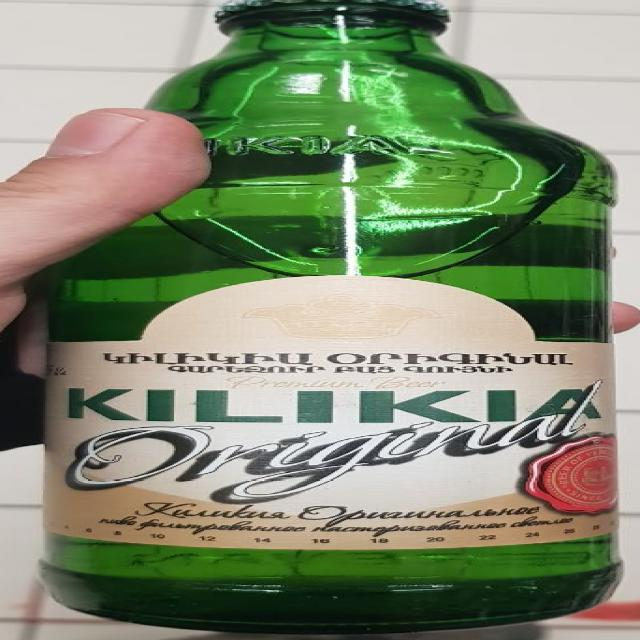Kilikia: (2, 0, 640, 640)
